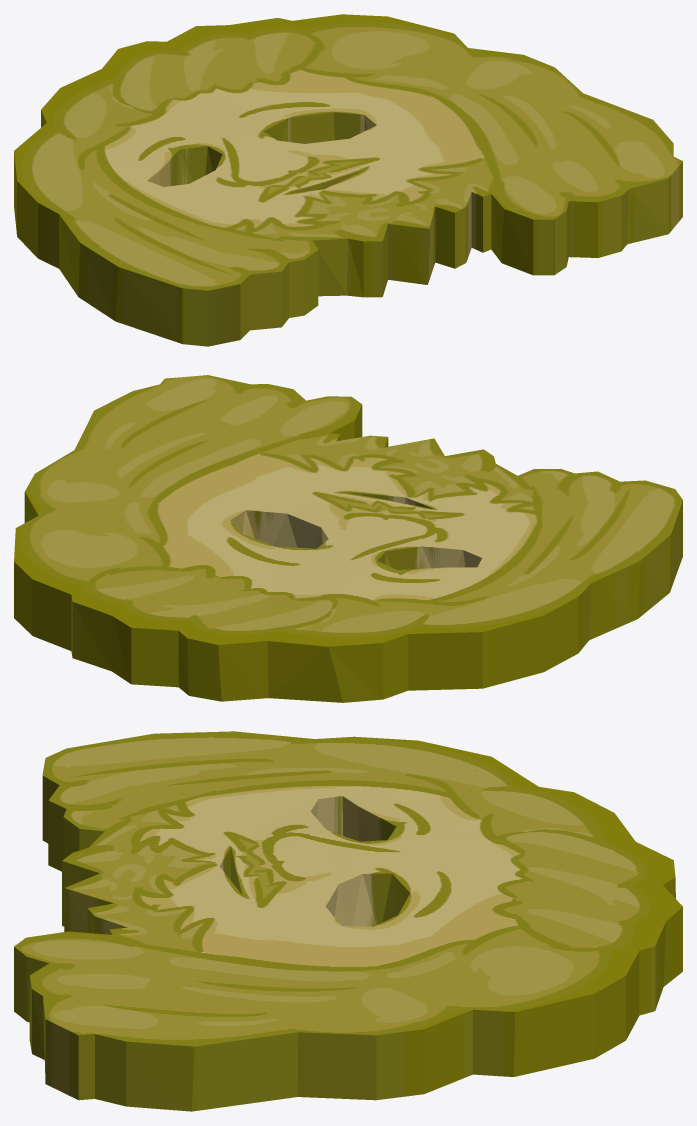
Rendered from MC_RamiSponge.fbx.
The picture shows the model from 3 angles, top to bottom: view 1: azimuth 30°, elevation 25°; view 2: azimuth 150°, elevation 25°; view 3: azimuth 270°, elevation 25°; orthographic projection. The views are drawn at different scales.
Parts seen in each view (by area): view 1: RamiSieni; view 2: RamiSieni; view 3: RamiSieni.
Boxes of the visible parts, x1,y1,x2,y2 form: RamiSieni: [14, 14, 682, 346]; RamiSieni: [14, 375, 682, 702]; RamiSieni: [14, 731, 682, 1111].
Bounding box in the file's own units: 451 × 49.18 × 503.
Materials: 1 (1 with a texture image).
